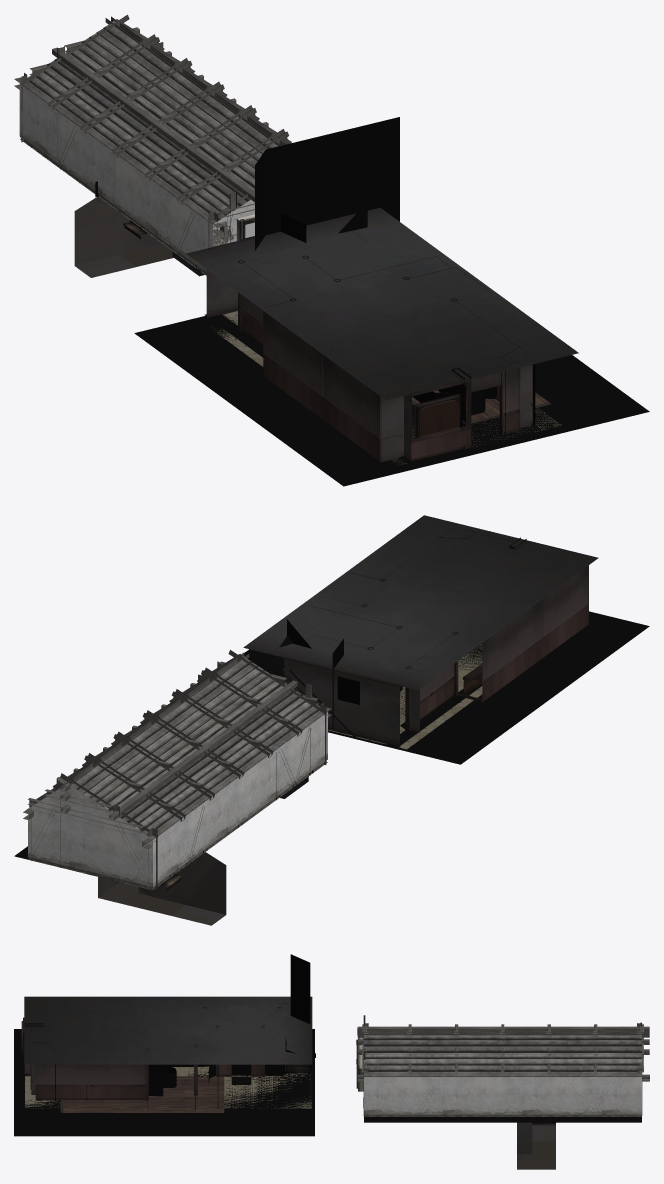
File: Cafe Leblanc.obj
The picture shows the model from 3 angles, top to bottom: view 1: azimuth 30°, elevation 25°; view 2: azimuth 150°, elevation 25°; view 3: azimuth 270°, elevation 25°; orthographic projection. The views are drawn at different scales.
Parts seen in each view (by area): view 1: ceiling_meshId47.001, wall01_meshId34.001, cam_hit01_meshId48.001, atari_meshId44.001, wall02_meshId31.001, 繧ｪ繝悶ず繧ｧ繧ｯ繝・5_meshId14.000, 繧ｪ繝悶ず繧ｧ繧ｯ繝・7.001_meshId3.000, stairs00_meshId36.001, 繧ｪ繝悶ず繧ｧ繧ｯ繝・7_meshId2.000, 繧ｪ繝悶ず繧ｧ繧ｯ繝・7.003_meshId5.000, 繧ｪ繝悶ず繧ｧ繧ｯ繝・7.004_meshId6.000, 繧ｪ繝悶ず繧ｧ繧ｯ繝・7.002_meshId4.000 (+5 smaller); view 2: ceiling_meshId47.001, wall01_meshId34.001, wall02_meshId31.001, cam_hit01_meshId48.001, 繧ｪ繝悶ず繧ｧ繧ｯ繝・5_meshId14.000, 繧ｪ繝悶ず繧ｧ繧ｯ繝・7.003_meshId5.000, stairs00_meshId36.001, 繧ｪ繝悶ず繧ｧ繧ｯ繝・7.001_meshId3.000, 繧ｪ繝悶ず繧ｧ繧ｯ繝・7_meshId2.000, atari_meshId44.001, Plane02_meshId39.001, wall04_meshId30.001 (+5 smaller); view 3: ceiling_meshId47.001, wall07_meshId29.001, wall02_meshId31.001, cam_hit01_meshId48.001, atari_meshId44.001, Plane02.001_meshId40.001, 繧ｪ繝悶ず繧ｧ繧ｯ繝・7.001_meshId3.000, Plane02_meshId39.001, 繧ｪ繝悶ず繧ｧ繧ｯ繝・5_meshId14.000, stairs00_meshId36.001, 繧ｪ繝悶ず繧ｧ繧ｯ繝・7_meshId2.000, atari2_meshId43.001 (+9 smaller).
Part boxes in pixels (box(x1,y1,x2,y2)): ceiling_meshId47.001: box(186, 207, 578, 400); wall01_meshId34.001: box(20, 23, 277, 224); cam_hit01_meshId48.001: box(139, 314, 639, 483); atari_meshId44.001: box(134, 117, 649, 486); wall02_meshId31.001: box(19, 21, 254, 272); 繧ｪ繝悶ず繧ｧ繧ｯ繝・5_meshId14.000: box(19, 14, 291, 227); 繧ｪ繝悶ず繧ｧ繧ｯ繝・7.001_meshId3.000: box(242, 296, 532, 439); stairs00_meshId36.001: box(74, 196, 173, 277); 繧ｪ繝悶ず繧ｧ繧ｯ繝・7_meshId2.000: box(242, 313, 532, 462); 繧ｪ繝悶ず繧ｧ繧ｯ繝・7.003_meshId5.000: box(206, 218, 532, 462); 繧ｪ繝悶ず繧ｧ繧ｯ繝・7.004_meshId6.000: box(238, 255, 505, 448); 繧ｪ繝悶ず繧ｧ繧ｯ繝・7.002_meshId4.000: box(207, 237, 532, 460); ceiling_meshId47.001: box(243, 515, 598, 690); wall01_meshId34.001: box(71, 658, 327, 839); wall02_meshId31.001: box(28, 656, 327, 887); cam_hit01_meshId48.001: box(248, 614, 643, 763); 繧ｪ繝悶ず繧ｧ繧ｯ繝・5_meshId14.000: box(28, 650, 327, 842); 繧ｪ繝悶ず繧ｧ繧ｯ繝・7.003_meshId5.000: box(284, 529, 588, 744); stairs00_meshId36.001: box(98, 852, 226, 925); 繧ｪ繝悶ず繧ｧ繧ｯ繝・7.001_meshId3.000: box(420, 566, 588, 700); 繧ｪ繝悶ず繧ｧ繧ｯ繝・7_meshId2.000: box(420, 605, 588, 718); atari_meshId44.001: box(244, 533, 649, 764); Plane02_meshId39.001: box(328, 644, 482, 749); wall04_meshId30.001: box(23, 661, 331, 889); ceiling_meshId47.001: box(24, 996, 312, 1064); wall07_meshId29.001: box(364, 1035, 641, 1076); wall02_meshId31.001: box(364, 1077, 641, 1114); cam_hit01_meshId48.001: box(18, 1030, 313, 1133); atari_meshId44.001: box(14, 954, 314, 1136); Plane02.001_meshId40.001: box(63, 1077, 224, 1112); 繧ｪ繝悶ず繧ｧ繧ｯ繝・7.001_meshId3.000: box(35, 1064, 145, 1084); Plane02_meshId39.001: box(25, 1066, 311, 1108); 繧ｪ繝悶ず繧ｧ繧ｯ繝・5_meshId14.000: box(357, 1024, 649, 1072); stairs00_meshId36.001: box(517, 1122, 555, 1169); 繧ｪ繝悶ず繧ｧ繧ｯ繝・7_meshId2.000: box(24, 1064, 261, 1098); atari2_meshId43.001: box(363, 1097, 592, 1122).
Size of the model in its own units: 1243 by 918 by 3110.
